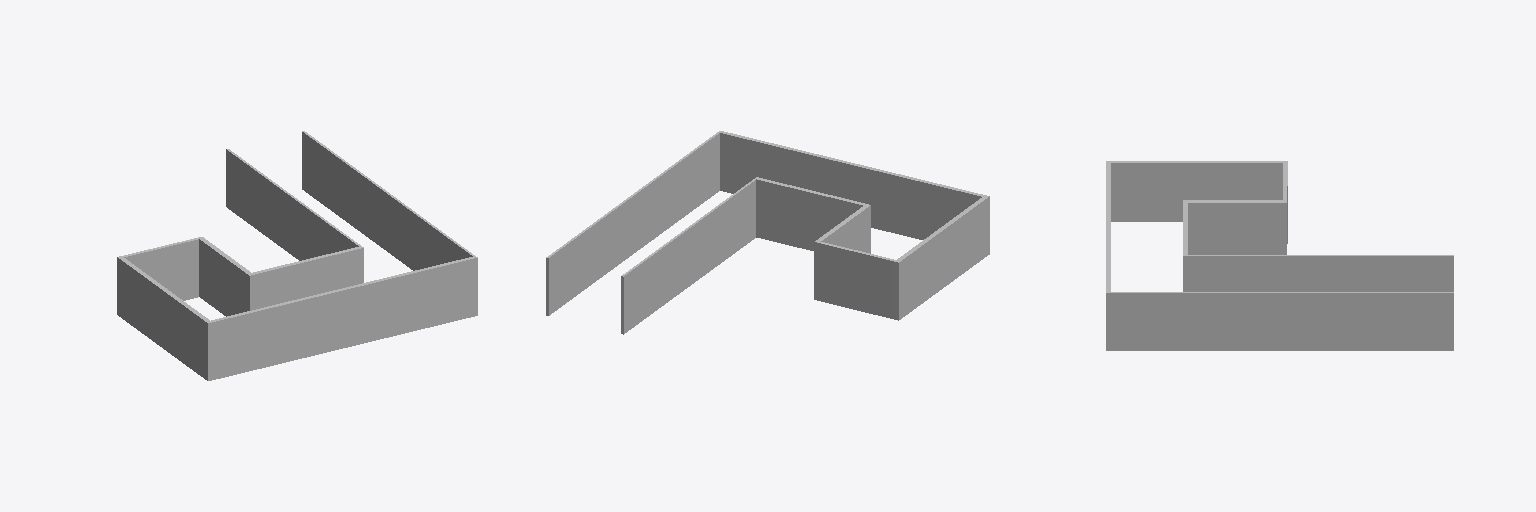
Rendered from ViviendaProtoype.obj.
3 renders of one model, left to right at view 1: azimuth 30°, elevation 25°; view 2: azimuth 150°, elevation 25°; view 3: azimuth 270°, elevation 25°, orthographic.
Visible parts, largest first — view 1: pCube3; view 2: pCube3; view 3: pCube3.
Boxes of the visible parts, x1=… form: pCube3: x1=117, y1=131, x2=477, y2=380; pCube3: x1=546, y1=131, x2=989, y2=334; pCube3: x1=1106, y1=161, x2=1453, y2=350.
Bounding box in the file's own units: 78.92 × 16.24 × 88.09.